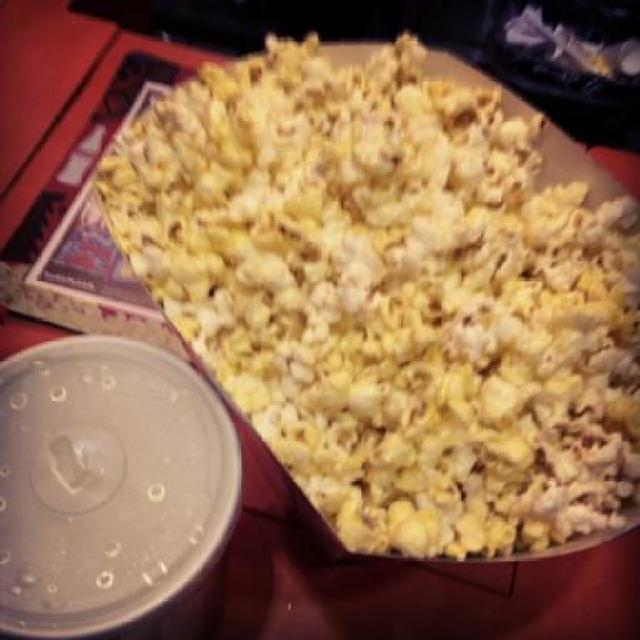Popcorn: (96, 30, 639, 556)
